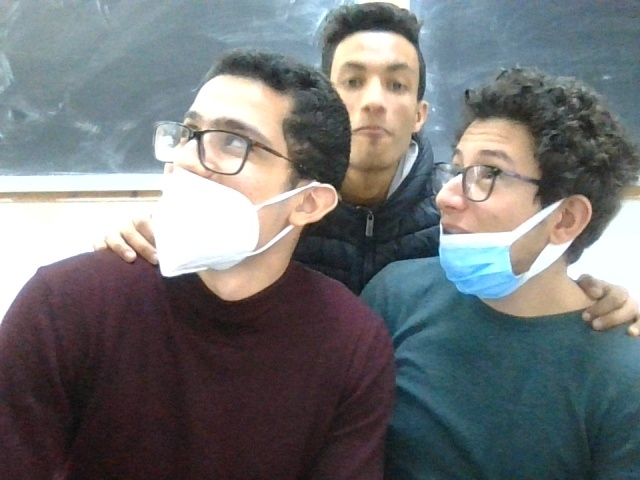mask_weared_incorrect: (136, 43, 314, 284), (440, 66, 603, 318)
without_mask: (323, 10, 436, 176)
